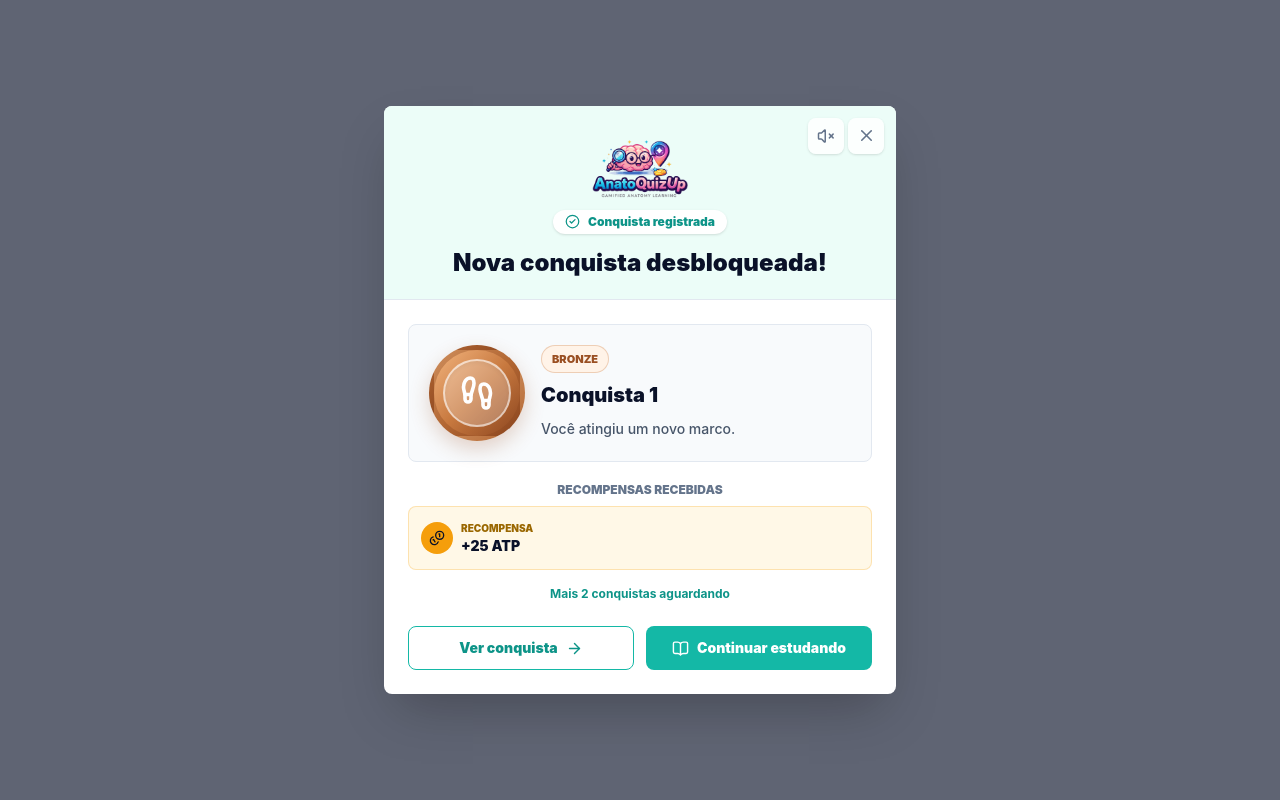
Test: AchievementUnlockModal › exibe a conquista, atualiza o saldo e continua a fila
Check: the dialog "Nova conquista desbloqueada!" is shown, box top-left (384, 106), bottom-right (896, 694)
Check: the text "Mais 2 conquistas aguardando" is shown, box top-left (550, 586), bottom-right (730, 601)
What coordinates should you click on to do the following:
click the button "Continuar estudando"
I would click on:
 (759, 648)
Its box is top-left (646, 626), bottom-right (872, 670).
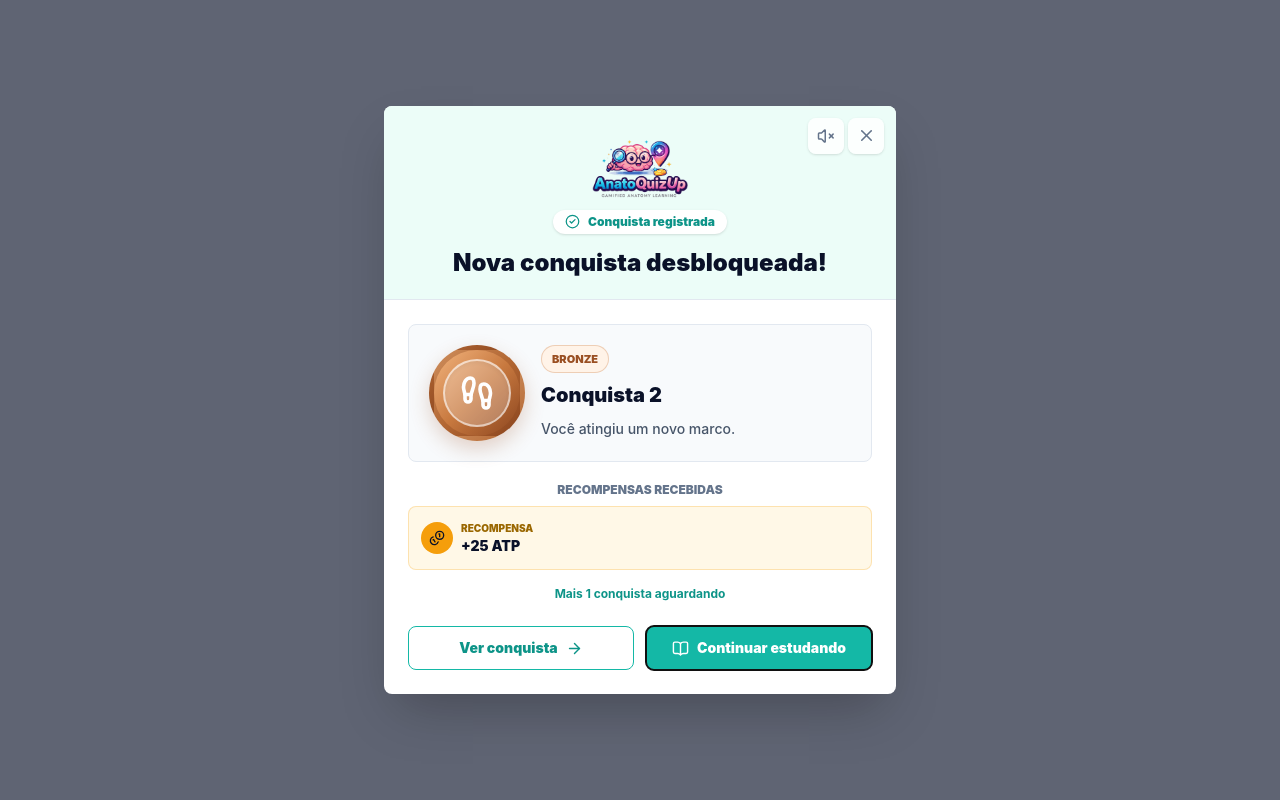
Check: the heading "Conquista 2" is shown, box top-left (541, 383), bottom-right (662, 407)
Check: the text "Mais 1 conquista aguardando" is shown, box top-left (555, 586), bottom-right (725, 601)
What coordinates should you click on to do the following:
click the button named "Fechar notificação de conquista"
I would click on:
 (866, 136)
Its box is top-left (848, 118), bottom-right (884, 154).
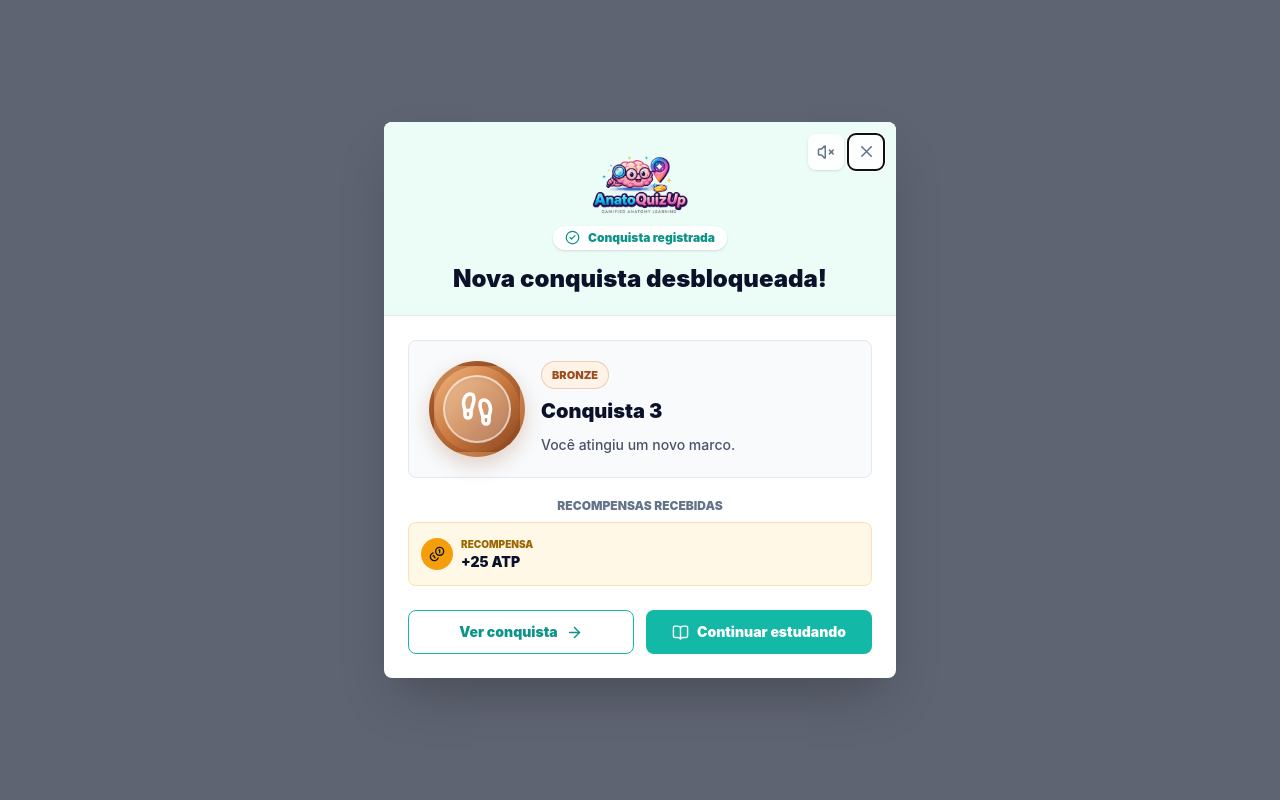
Check: the heading "Conquista 3" is shown, box top-left (541, 399), bottom-right (662, 423)
